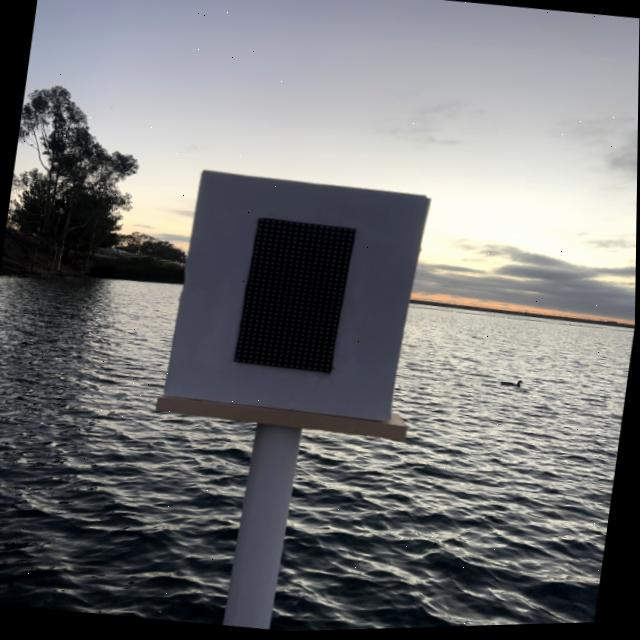led: (195, 180, 399, 426)
